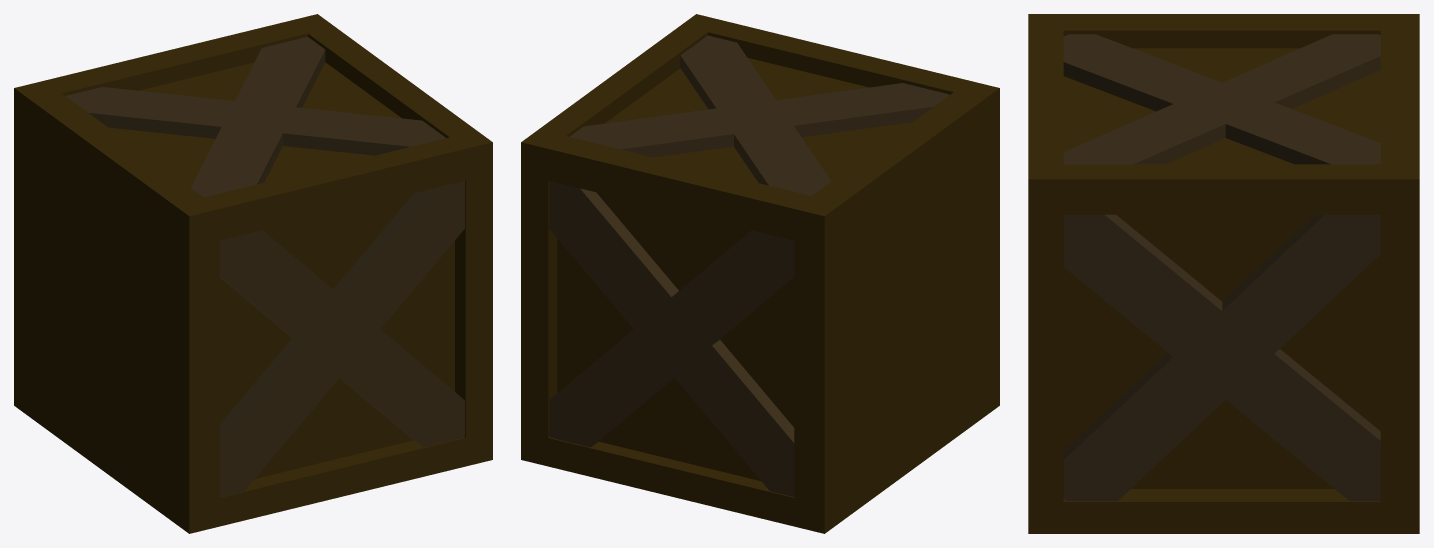
File: crate1.fbx
3 views of the same model, side by side, from view 1: azimuth 30°, elevation 25°; view 2: azimuth 150°, elevation 25°; view 3: azimuth 270°, elevation 25° (orthographic). The views are drawn at different scales.
Visible parts, largest first — view 1: pCube10; view 2: pCube10; view 3: pCube10.
Boxes of the visible parts, x1,y1,x2,y2 form: pCube10: (14, 14, 492, 533); pCube10: (521, 14, 999, 533); pCube10: (1028, 14, 1419, 533).
Bounding box in the file's own units: 1 × 1 × 1.
